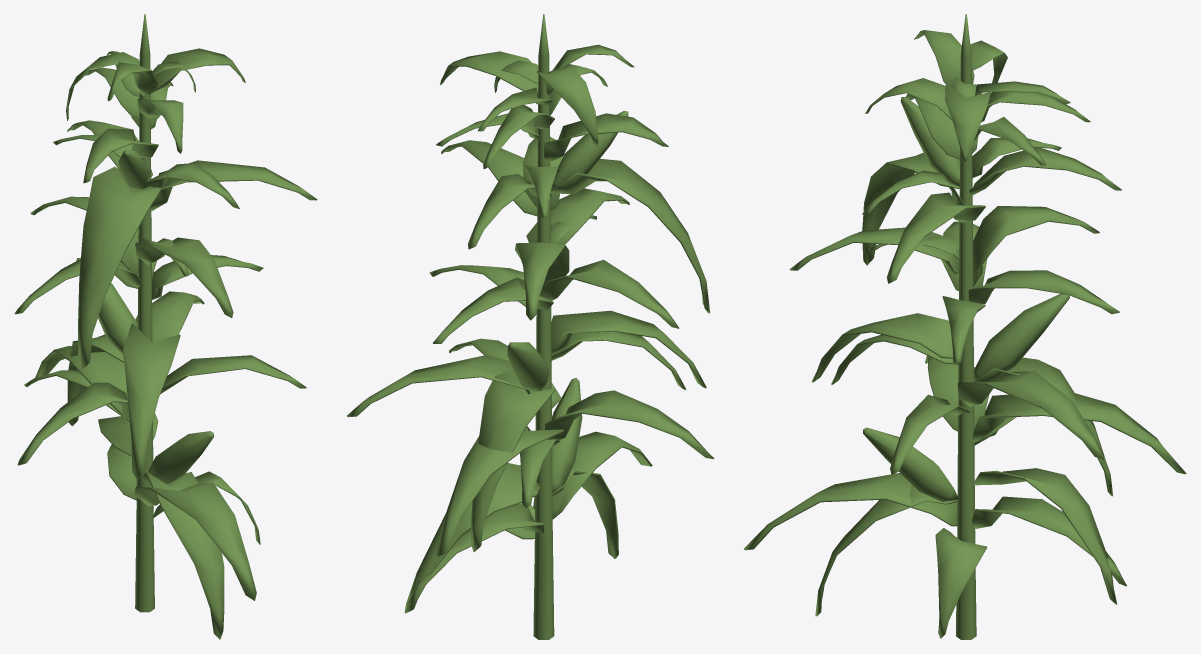
The model's file is MaizalesLOW.fbx.
3 views of the same model, side by side, from view 1: azimuth 30°, elevation 25°; view 2: azimuth 150°, elevation 25°; view 3: azimuth 270°, elevation 25° (orthographic). The views are drawn at different scales.
Parts seen in each view (by area): view 1: maizal1LOW, maizal2LOW; view 2: maizal1LOW, maizal2LOW; view 3: maizal1LOW, maizal2LOW.
Part boxes in pixels (x1,y1,x2,y2): maizal1LOW: [17, 14, 317, 600]; maizal2LOW: [14, 51, 306, 639]; maizal1LOW: [347, 14, 714, 613]; maizal2LOW: [407, 60, 686, 639]; maizal1LOW: [744, 14, 1186, 604]; maizal2LOW: [815, 40, 1126, 639].
Bounding box in the file's own units: 123 × 249 × 161.
